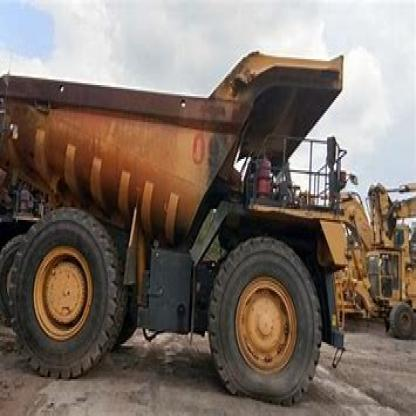dump_truck: (8, 32, 346, 400)
